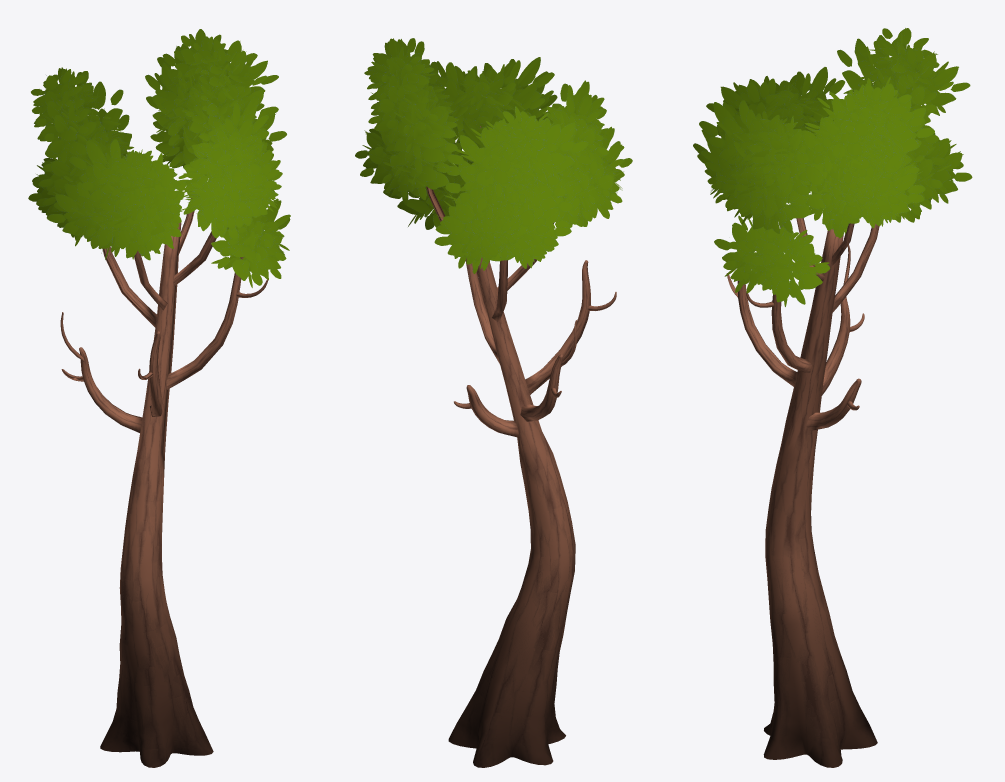
Rendered from CommonTree_4.glb.
3 renders of one model, left to right at view 1: azimuth 30°, elevation 25°; view 2: azimuth 150°, elevation 25°; view 3: azimuth 270°, elevation 25°, orthographic. The views are drawn at different scales.
Parts seen in each view (by area): view 1: CommonTree_4; view 2: CommonTree_4; view 3: CommonTree_4.
Boxes of the visible parts, x1,y1,x2,y2 form: CommonTree_4: (28, 29, 290, 767); CommonTree_4: (355, 38, 632, 767); CommonTree_4: (693, 28, 972, 767).
Size of the model in its own units: 3.83 by 9.44 by 3.76.
Materials: 2 (2 with a texture image).
